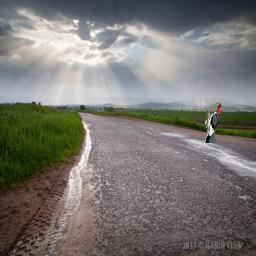Woodpecker: (205, 102, 222, 143)
